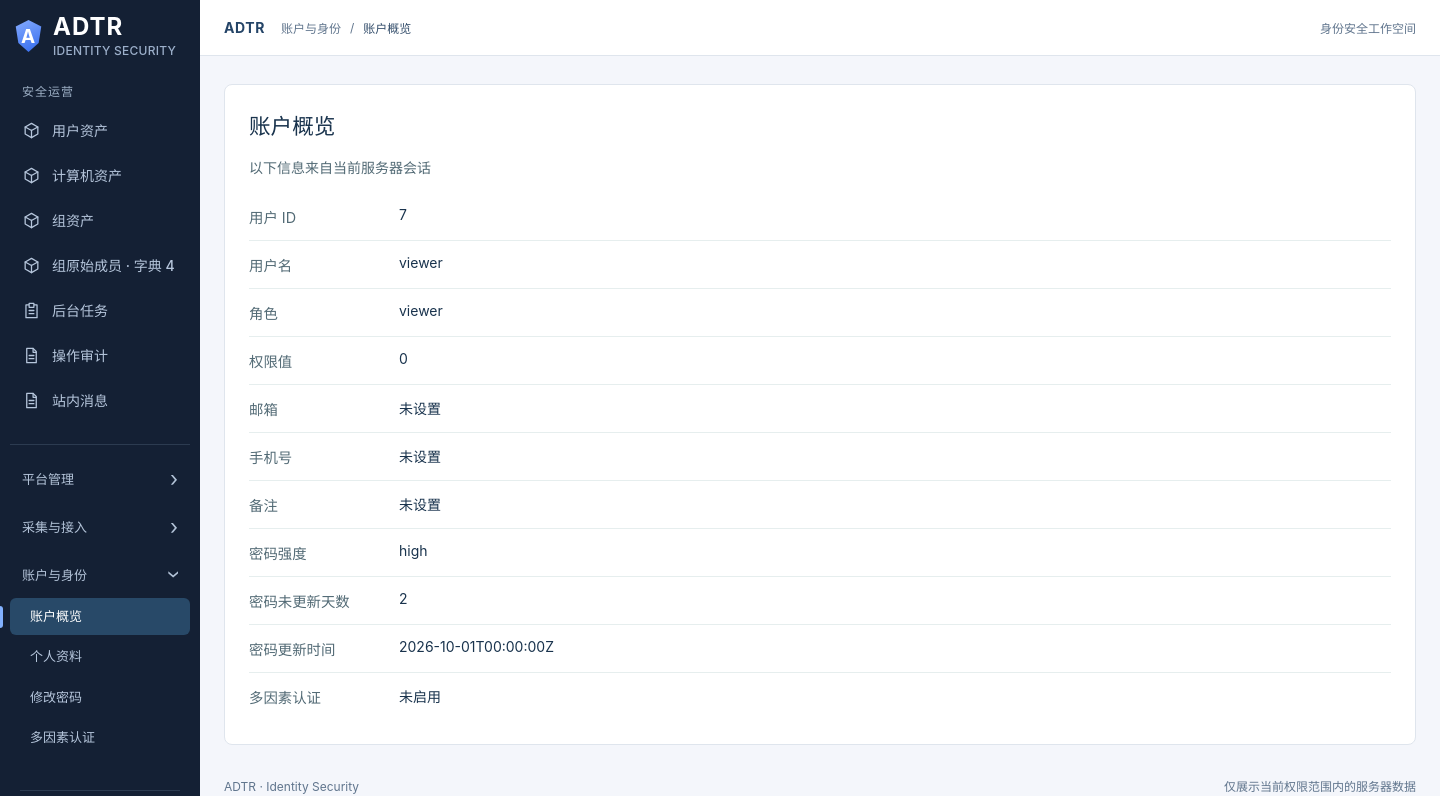
Test: personal profile workspace › has a separate authenticated tab, preserves Account heading, and permits viewers without management grants
Expected: the heading "账户概览" is shown, [249,113,335,139]
Click the button "个人资料".
click(100, 657)  # box [10,638,190,676]
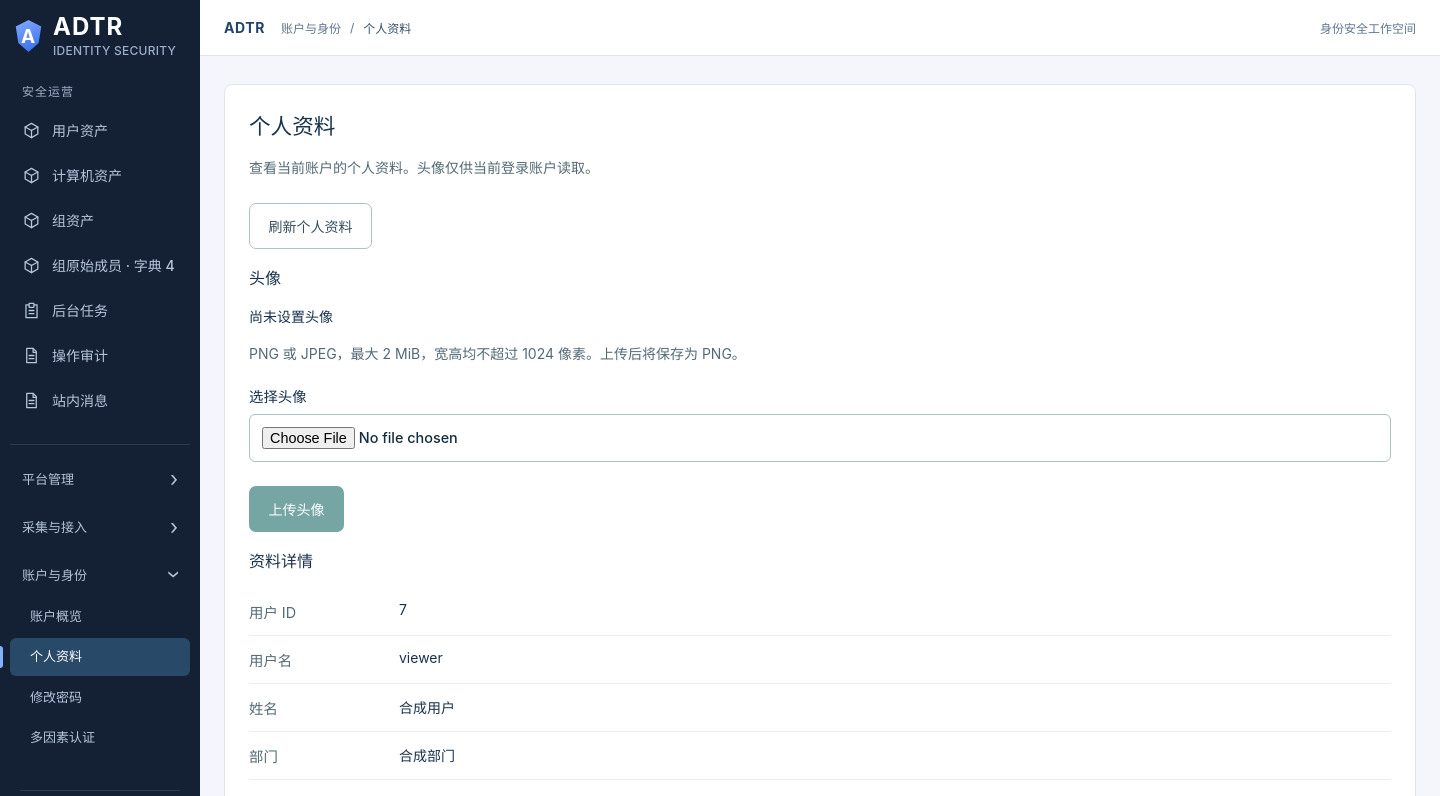
Expected: the text "合成用户" is shown, [399,699,455,716]
Expected: the heading "个人资料" is shown, [249,113,335,139]
Expected: the text "尚未设置头像" is shown, [249,308,333,325]
